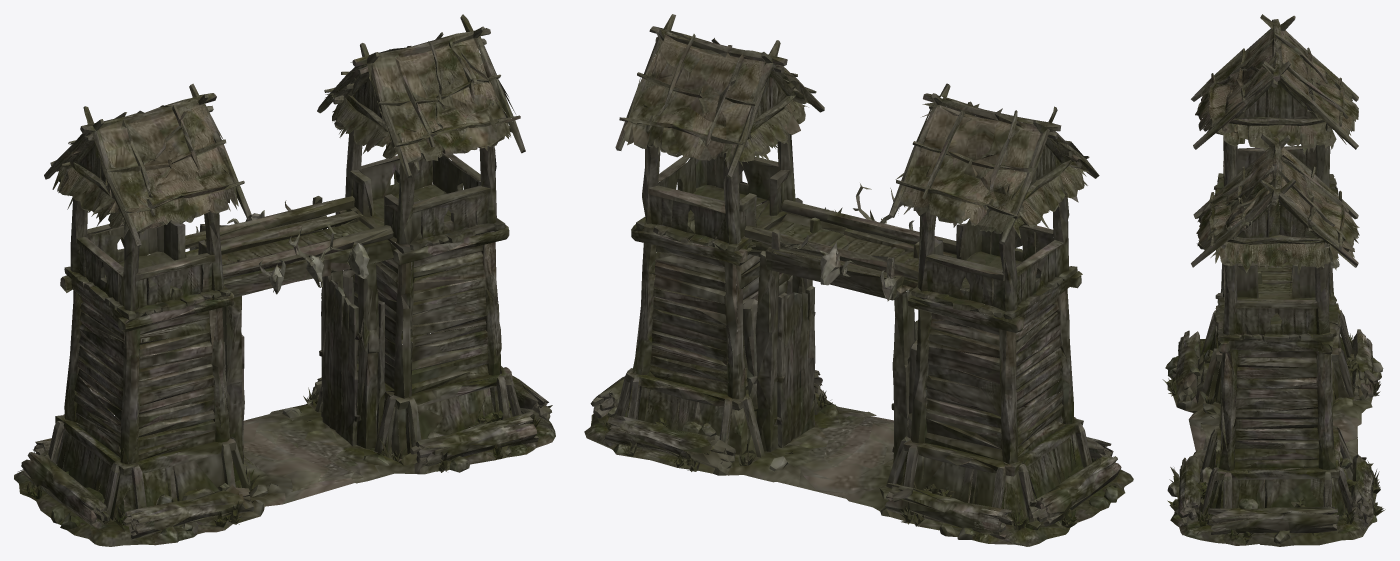
Rendered from gate.glb.
The picture shows the model from 3 angles, left to right: view 1: azimuth 30°, elevation 25°; view 2: azimuth 150°, elevation 25°; view 3: azimuth 270°, elevation 25°; orthographic projection. The views are drawn at different scales.
Parts seen in each view (by area): view 1: Mesh_0; view 2: Mesh_0; view 3: Mesh_0.
Part boxes in pixels (<box>): Mesh_0: <box>14,14,555,546</box>; Mesh_0: <box>584,14,1133,546</box>; Mesh_0: <box>1162,14,1385,546</box>.
Bounding box in the file's own units: 9.37 × 7.2 × 4.22.
1 material, 1 textured.
